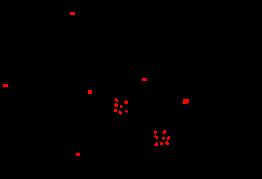Target: (183, 99, 189, 104), (88, 90, 92, 94), (124, 100, 128, 104), (114, 103, 118, 107), (162, 130, 166, 134), (154, 135, 158, 139), (165, 141, 169, 145), (154, 142, 158, 146), (70, 12, 75, 15), (142, 78, 147, 81), (3, 84, 8, 87), (119, 110, 122, 115), (115, 98, 118, 102), (167, 136, 170, 140), (76, 153, 80, 156), (120, 105, 123, 108), (114, 109, 117, 112), (125, 110, 128, 113), (154, 131, 157, 134), (162, 137, 165, 140), (160, 142, 163, 145)
